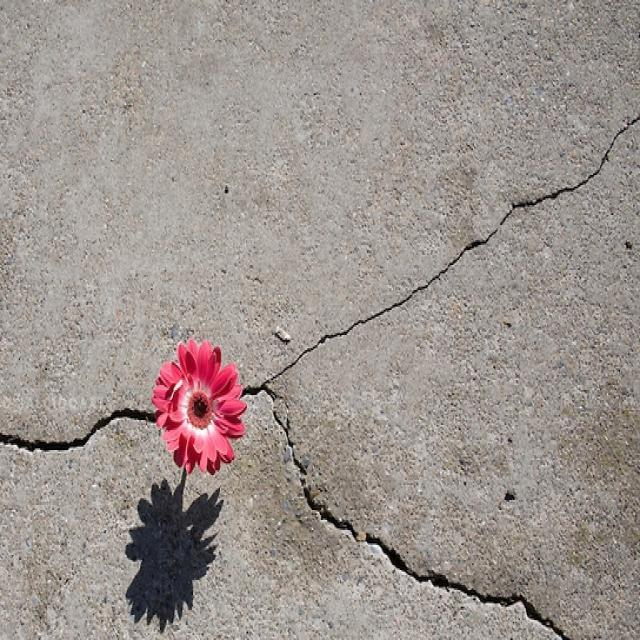Radial: (0, 106, 640, 640)
